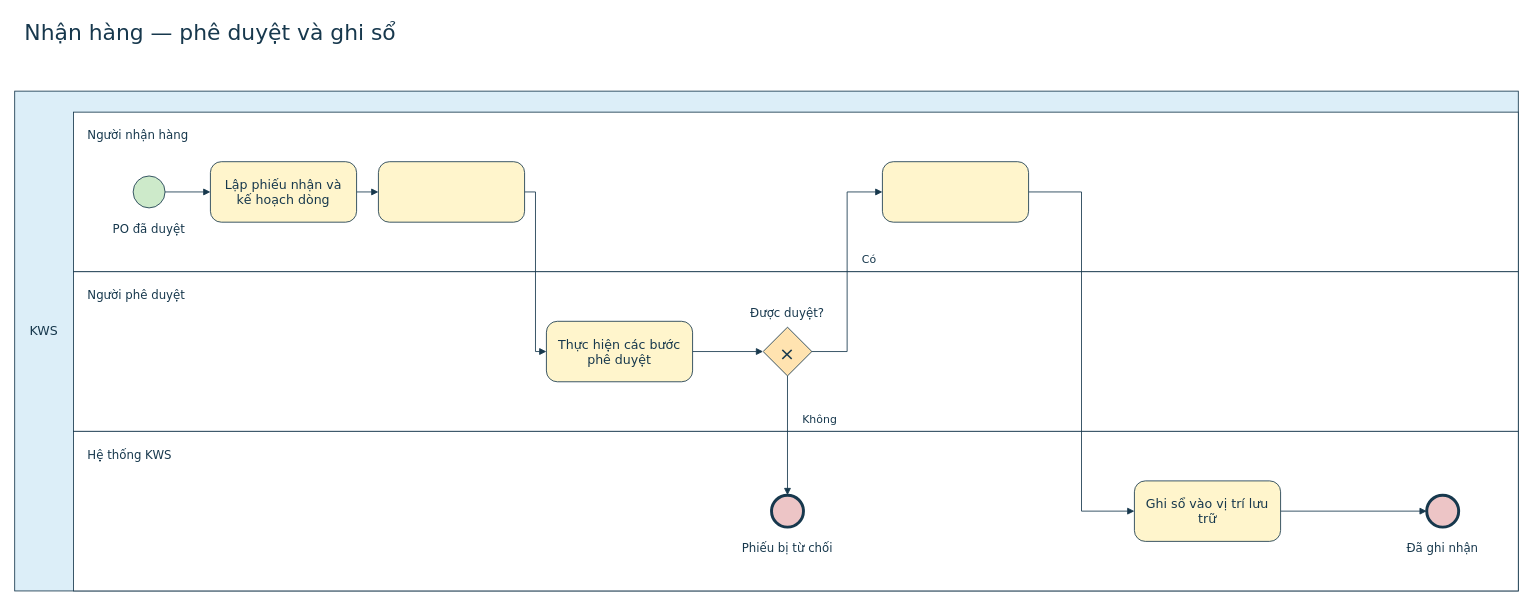
The diagram is 1533 pixels wide and 606 high, and some of its shapes have lost their labels. Each missing label, with the centre of its shape:
"Gửi phiếu nhận để duyệt" goes at pixel 451 191.
"Yêu cầu ghi sổ lượng thực nhận" goes at pixel 955 191.
